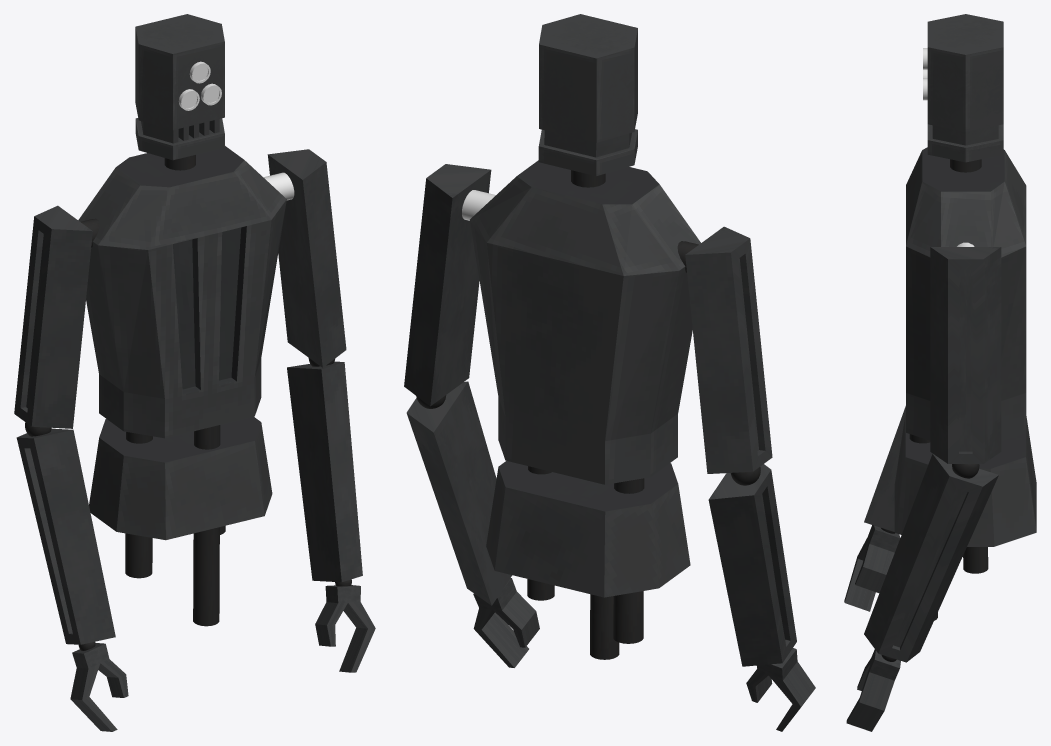
Rendered from robottexturized.FBX.
The picture shows the model from 3 angles, left to right: view 1: azimuth 30°, elevation 25°; view 2: azimuth 150°, elevation 25°; view 3: azimuth 270°, elevation 25°; orthographic projection. The views are drawn at different scales.
Visible parts, largest first — view 1: torso, upper arm001, lower arm001, lower arm002, head, upper arm, torso tube 2, hand, hand002, torso tube 1, eyes; view 2: torso, upper arm001, head, upper arm, lower arm002, lower arm001, hand, hand002, torso tube 1, torso tube 2; view 3: torso, upper arm, lower arm001, head, hand002, hand, lower arm002, torso tube, neck, elbow001.
Boxes of the visible parts, bbox=[...] form: torso: bbox=[78, 146, 286, 540]; upper arm001: bbox=[14, 205, 92, 428]; lower arm001: bbox=[287, 361, 362, 582]; lower arm002: bbox=[16, 428, 115, 644]; head: bbox=[135, 14, 224, 160]; upper arm: bbox=[267, 149, 346, 367]; torso tube 2: bbox=[193, 425, 220, 626]; hand: bbox=[315, 585, 375, 672]; hand002: bbox=[70, 643, 128, 731]; torso tube 1: bbox=[125, 432, 152, 578]; eyes: bbox=[178, 61, 221, 110]; torso: bbox=[470, 160, 700, 597]; upper arm001: bbox=[685, 226, 772, 473]; head: bbox=[538, 14, 637, 176]; upper arm: bbox=[404, 164, 491, 406]; lower arm002: bbox=[708, 464, 796, 666]; lower arm001: bbox=[406, 381, 512, 605]; hand: bbox=[473, 578, 539, 667]; hand002: bbox=[746, 648, 815, 731]; torso tube 1: bbox=[613, 478, 644, 643]; torso tube 2: bbox=[590, 594, 619, 659]; torso: bbox=[894, 147, 1036, 546]; upper arm: bbox=[930, 247, 1001, 463]; lower arm001: bbox=[864, 454, 998, 662]; head: bbox=[927, 14, 1003, 162]; hand002: bbox=[844, 525, 900, 611]; hand: bbox=[846, 649, 900, 731]; lower arm002: bbox=[864, 406, 905, 531]; torso tube: bbox=[963, 547, 988, 573]; neck: bbox=[950, 159, 981, 172]; elbow001: bbox=[952, 464, 979, 478].
Bounding box in the file's own units: 0.6809 × 1.31 × 0.3567.
4 materials, 4 textured.
